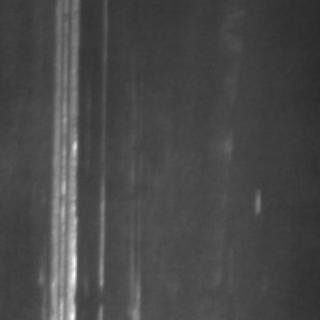scratches: (41, 0, 84, 318)
